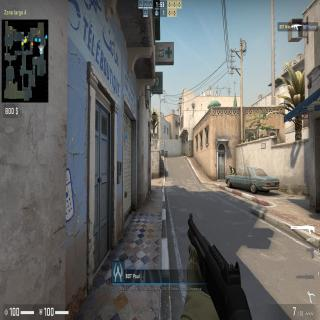CT-Head: (230, 167, 232, 170)
